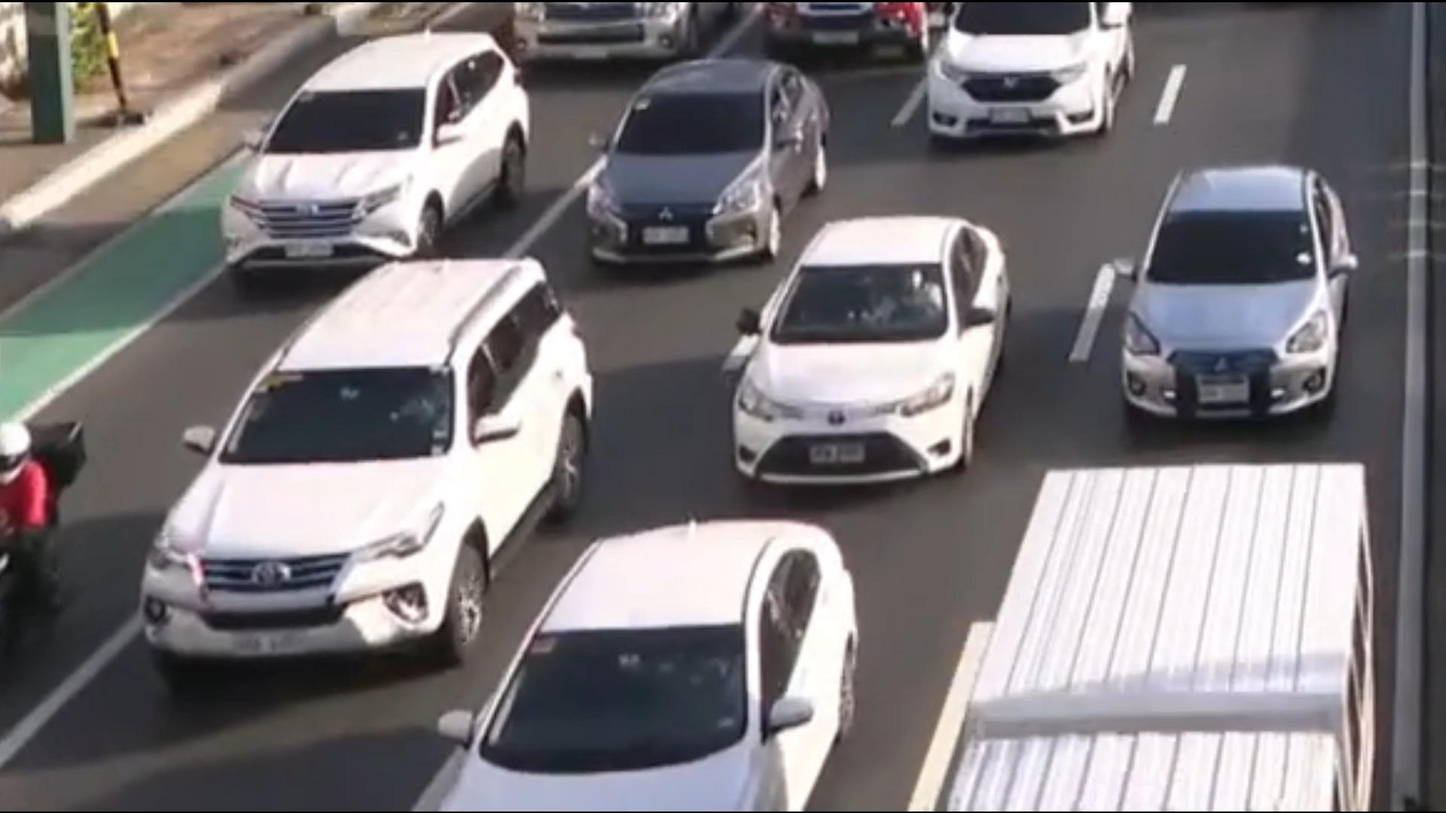Motorcycle: (0, 384, 111, 700)
Multicab: (925, 429, 1420, 813)
SUV: (69, 245, 618, 724), (176, 27, 531, 304)
Sedan: (413, 499, 876, 813), (696, 217, 1034, 514), (1096, 136, 1377, 444), (559, 51, 851, 286)
